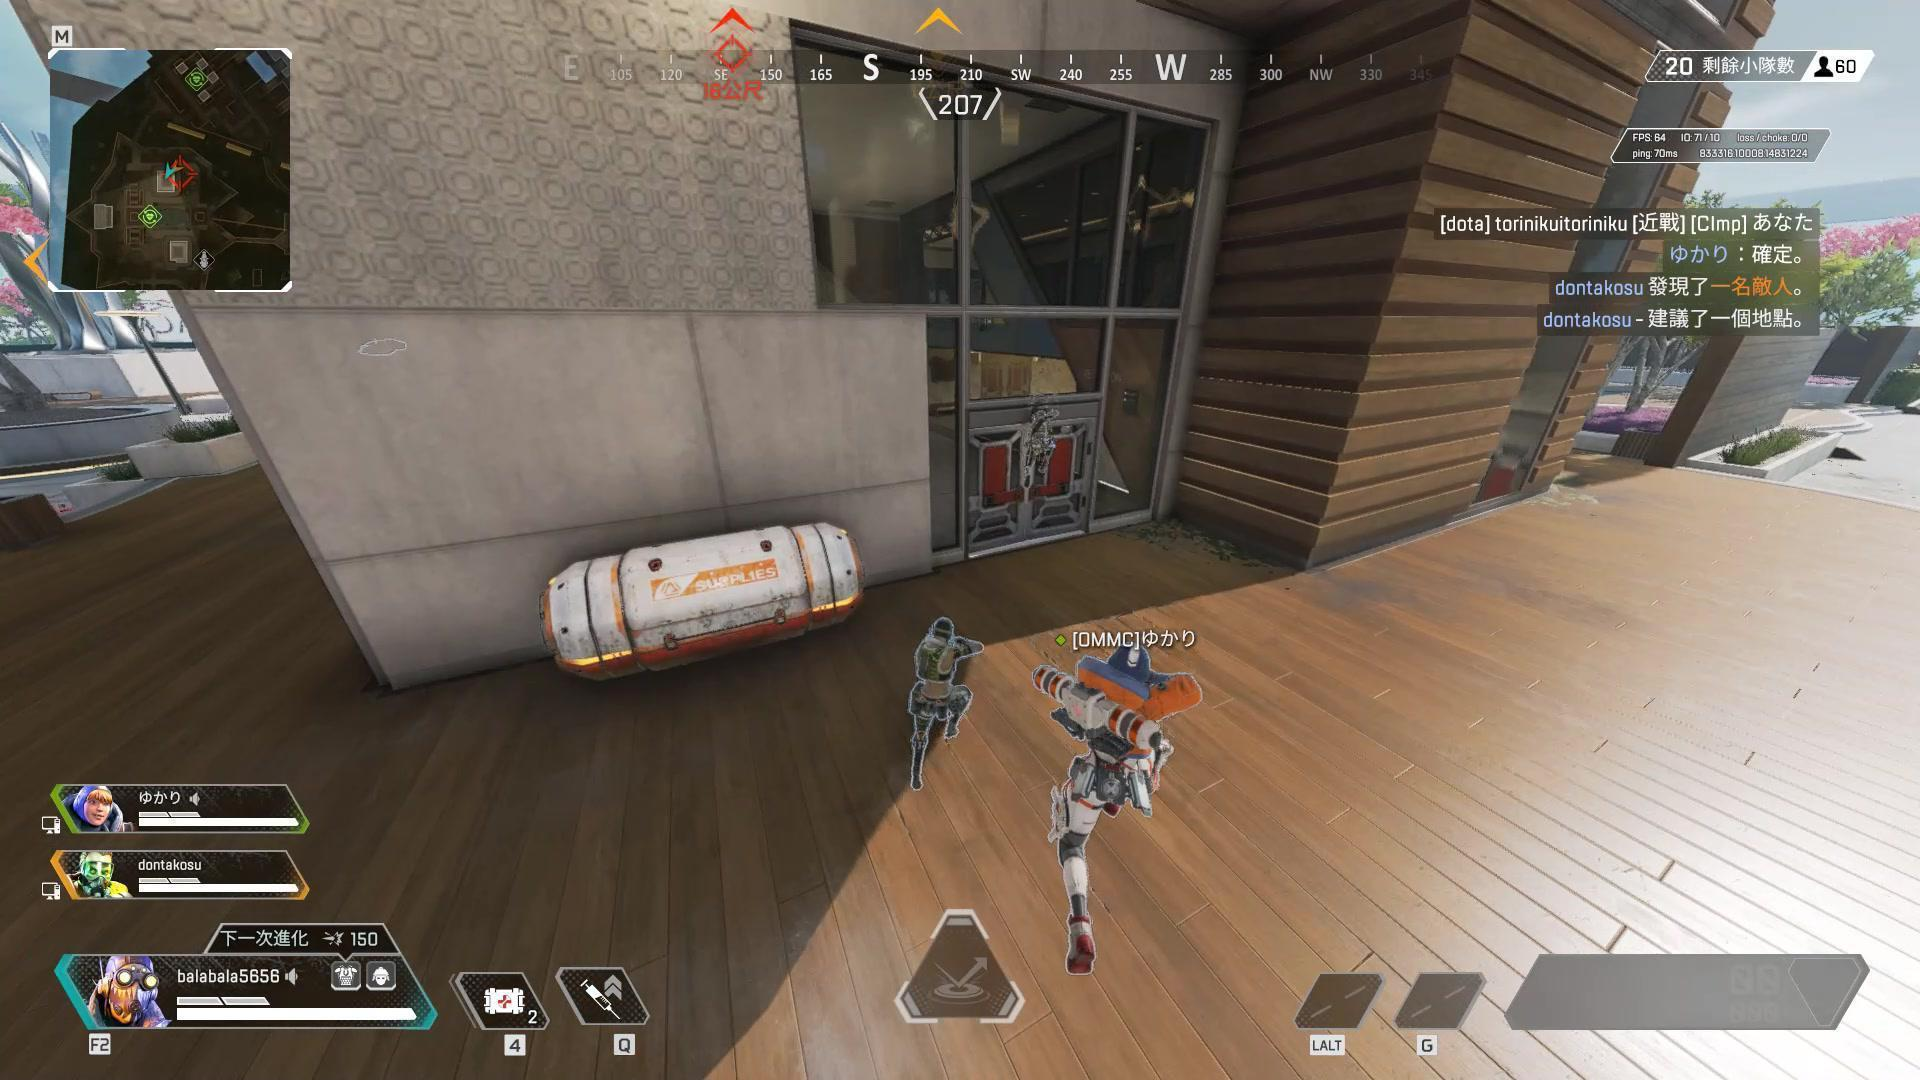avatar: (1029, 642, 1205, 978), (906, 613, 975, 795)
